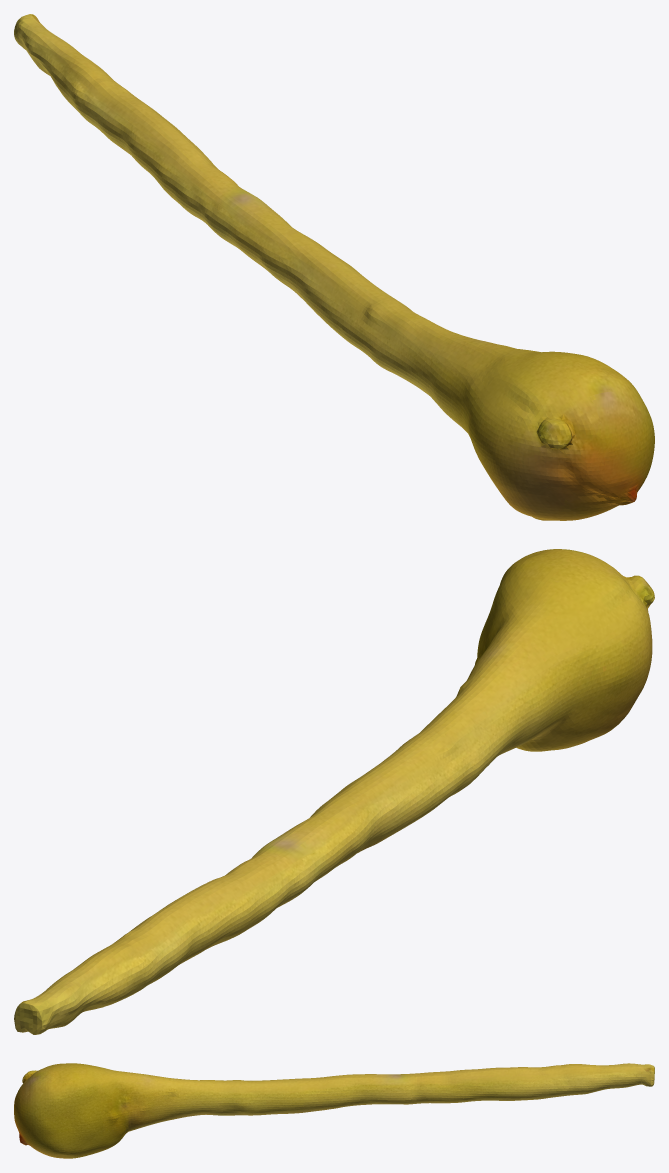
3 renders of one model, top to bottom at view 1: azimuth 30°, elevation 25°; view 2: azimuth 150°, elevation 25°; view 3: azimuth 270°, elevation 25°, orthographic. The views are drawn at different scales.
Visible parts, largest first — view 1: Hy21_Mesh.obj; view 2: Hy21_Mesh.obj; view 3: Hy21_Mesh.obj.
Boxes of the visible parts, x1,y1,x2,y2 form: Hy21_Mesh.obj: [14, 14, 654, 520]; Hy21_Mesh.obj: [14, 549, 654, 1034]; Hy21_Mesh.obj: [14, 1063, 654, 1158].
Bounding box in the file's own units: 0.2944 × 0.2973 × 1.96.
Materials: 1 (1 with a texture image).
